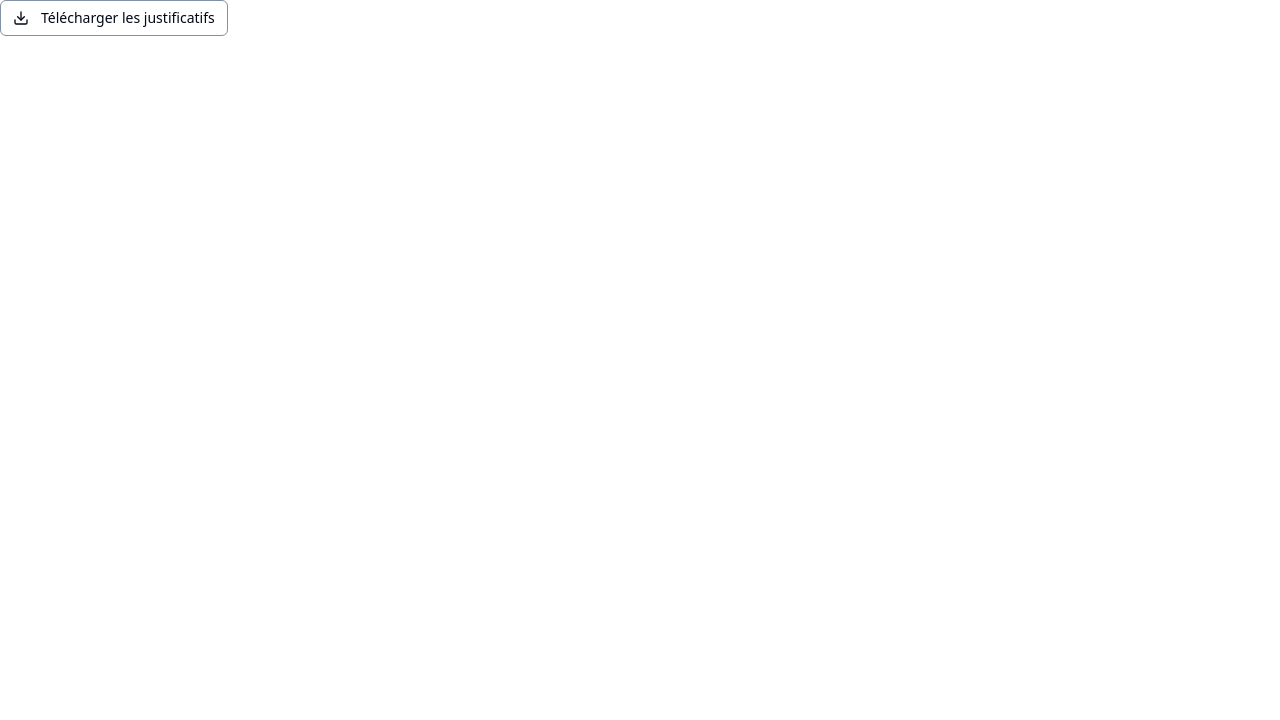
Test: EvidenceDownload › offers the ones already downloaded again when asked
What coordinates should you click on to do the following:
click the button "Télécharger les justificatifs"
I would click on:
 (114, 18)
Its box is [0,0,228,36].
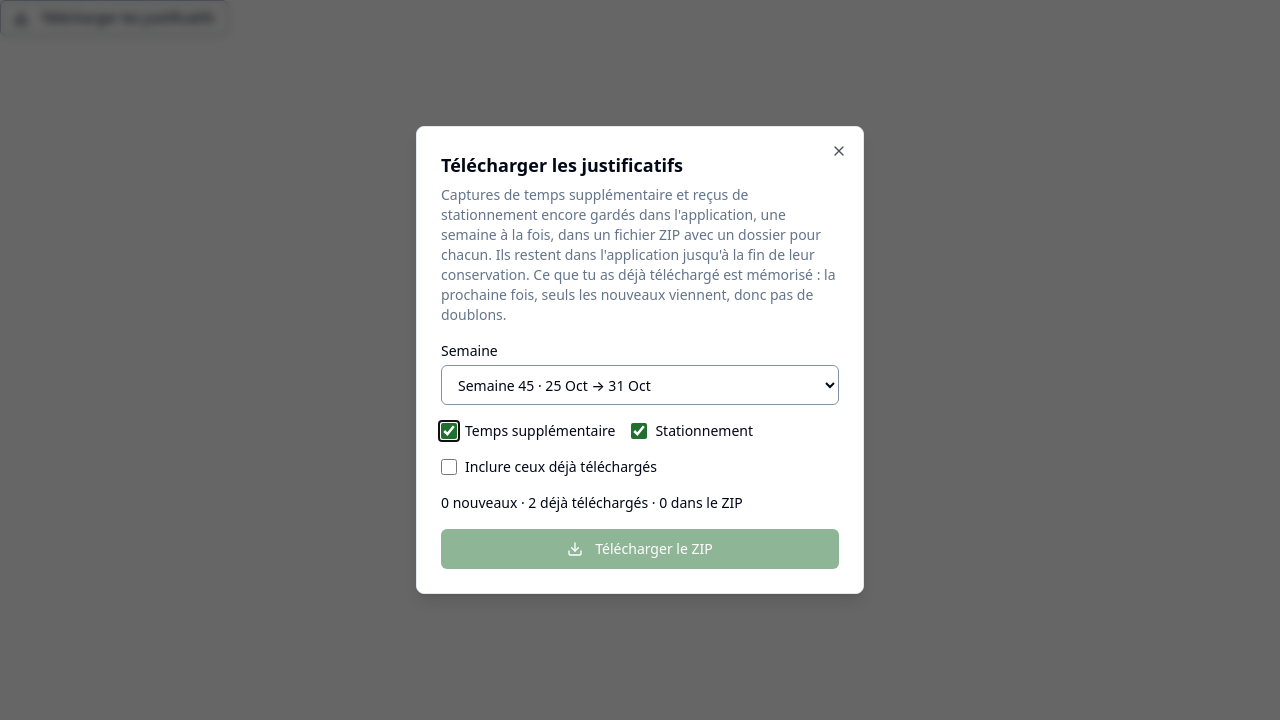
Now the text "0 nouveaux · 2 déjà téléchargés · 0 dans le ZIP" is shown, box [441,493,743,512]
Now the button "Télécharger le ZIP" is disabled, box [441,529,839,569]
What coordinates should you click on to do the following:
click the checkbox labelled "Inclure ceux déjà téléchargés"
I would click on:
 (449, 467)
Its box is [441,459,457,475].
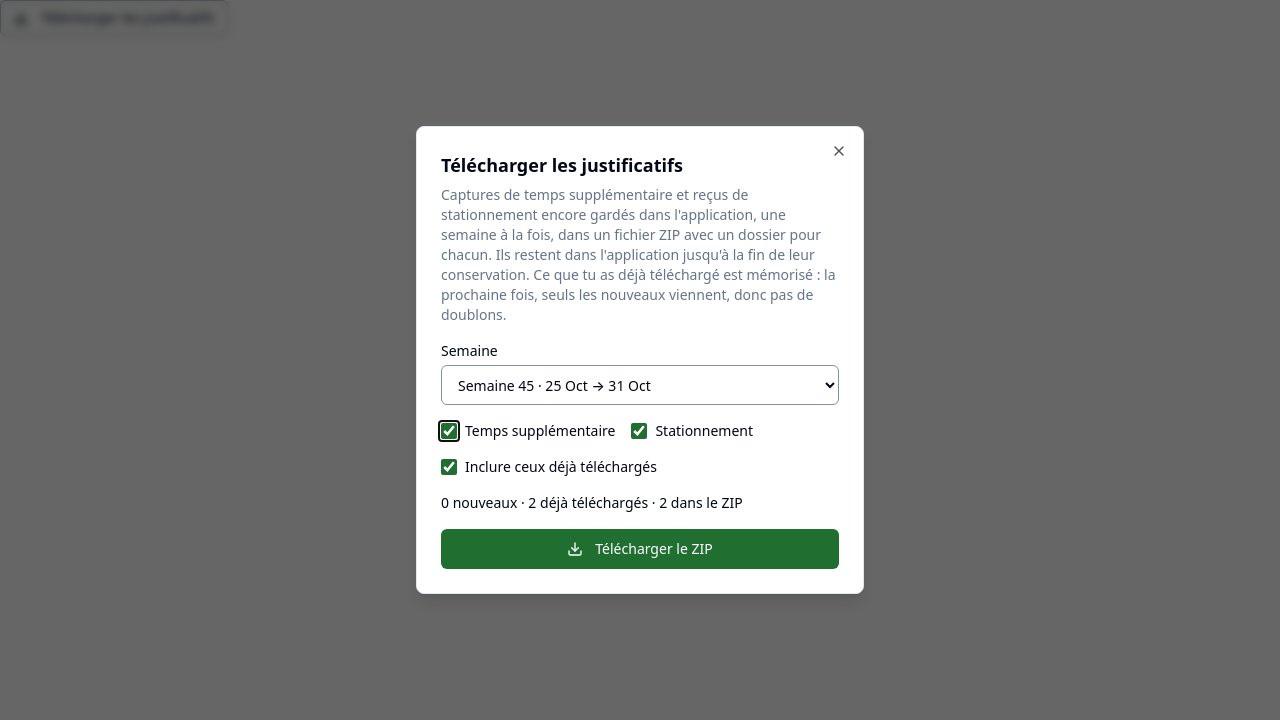
Now the text "0 nouveaux · 2 déjà téléchargés · 2 dans le ZIP" is shown, box [441,493,743,512]
Now the button "Télécharger le ZIP" is enabled, box [441,529,839,569]
